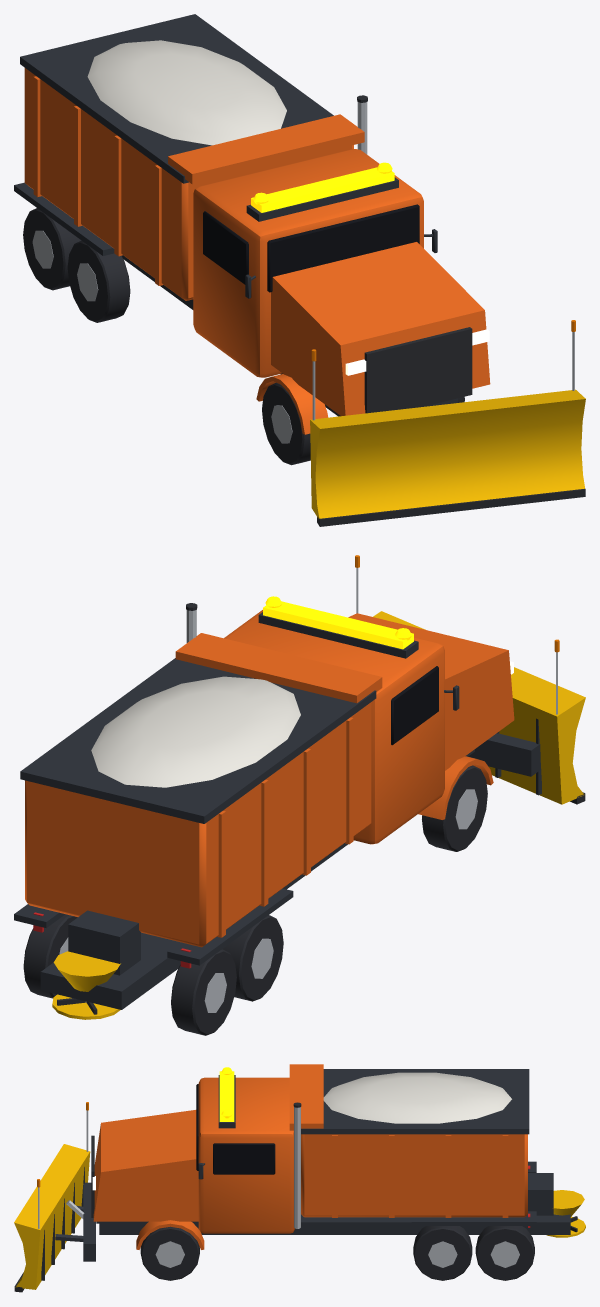
File: snowplow.glb
3 views of the same model, one above another, from view 1: azimuth 30°, elevation 25°; view 2: azimuth 150°, elevation 25°; view 3: azimuth 270°, elevation 25° (orthographic). The views are drawn at different scales.
Visible parts, largest first — view 1: body; view 2: body; view 3: body.
Boxes of the visible parts, x1=… form: body: x1=14, y1=14, x2=585, y2=526; body: x1=14, y1=555, x2=585, y2=1035; body: x1=14, y1=1064, x2=585, y2=1292.
Bounding box in the file's own units: 341 × 350 × 1007.
